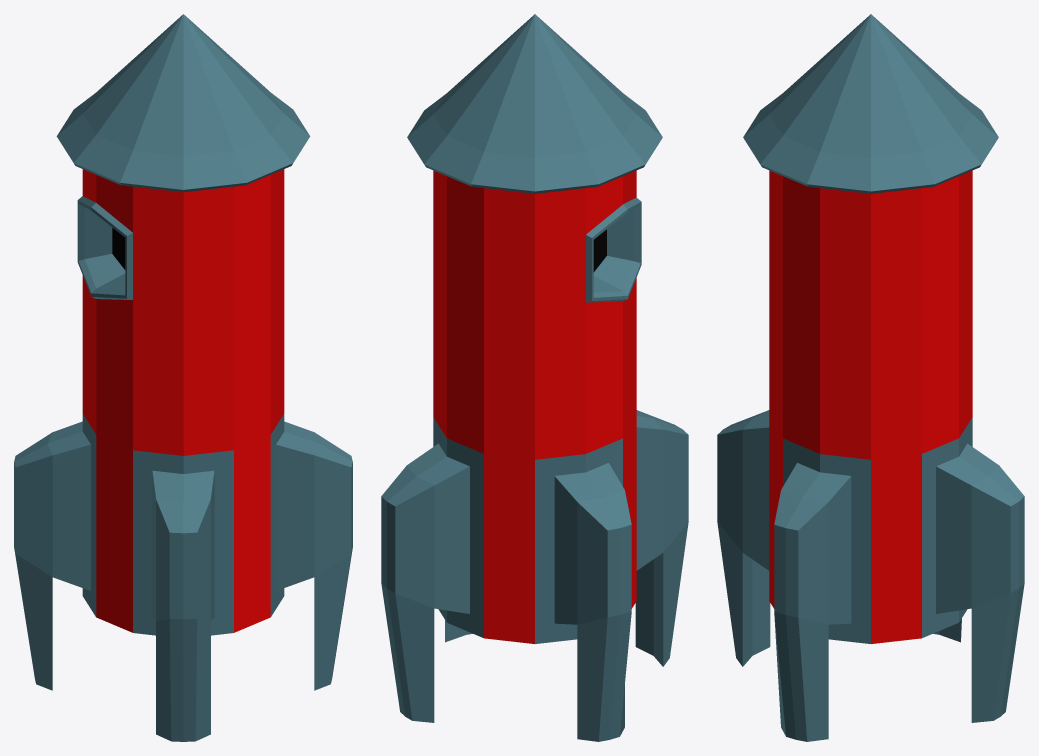
File: Rocket (1).fbx
3 views of the same model, side by side, from view 1: azimuth 30°, elevation 25°; view 2: azimuth 150°, elevation 25°; view 3: azimuth 270°, elevation 25° (orthographic).
Parts seen in each view (by area): view 1: Rocket; view 2: Rocket; view 3: Rocket.
Boxes of the visible parts, x1,y1,x2,y2 form: Rocket: (14, 14, 352, 741); Rocket: (381, 14, 688, 741); Rocket: (717, 14, 1024, 741).
Size of the model in its own units: 20.82 by 50.14 by 20.82.
